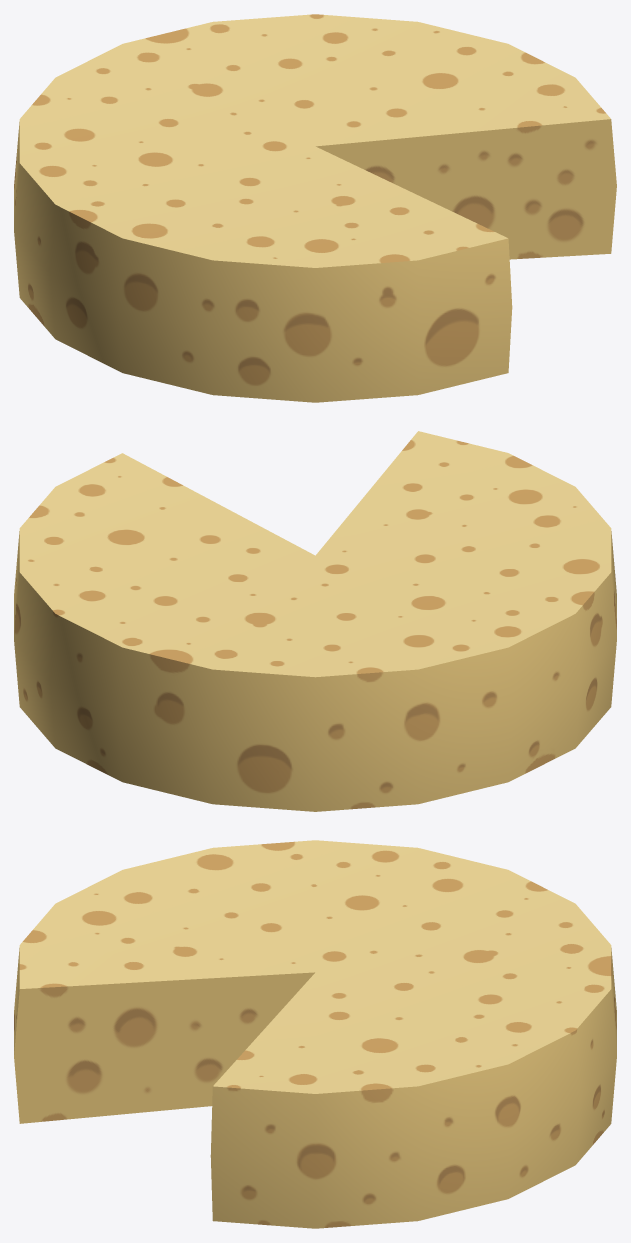
The model's file is Cheese_Big.FBX.
3 views of the same model, one above another, from view 1: azimuth 30°, elevation 25°; view 2: azimuth 150°, elevation 25°; view 3: azimuth 270°, elevation 25° (orthographic).
Visible parts, largest first — view 1: Cylinder001; view 2: Cylinder001; view 3: Cylinder001.
Part boxes in pixels (left/top/right/bottom): Cylinder001: left=14, top=14, right=616, bottom=402; Cylinder001: left=14, top=431, right=616, bottom=811; Cylinder001: left=14, top=840, right=616, bottom=1228.
Bounding box in the file's own units: 28.83 × 7 × 28.39.
